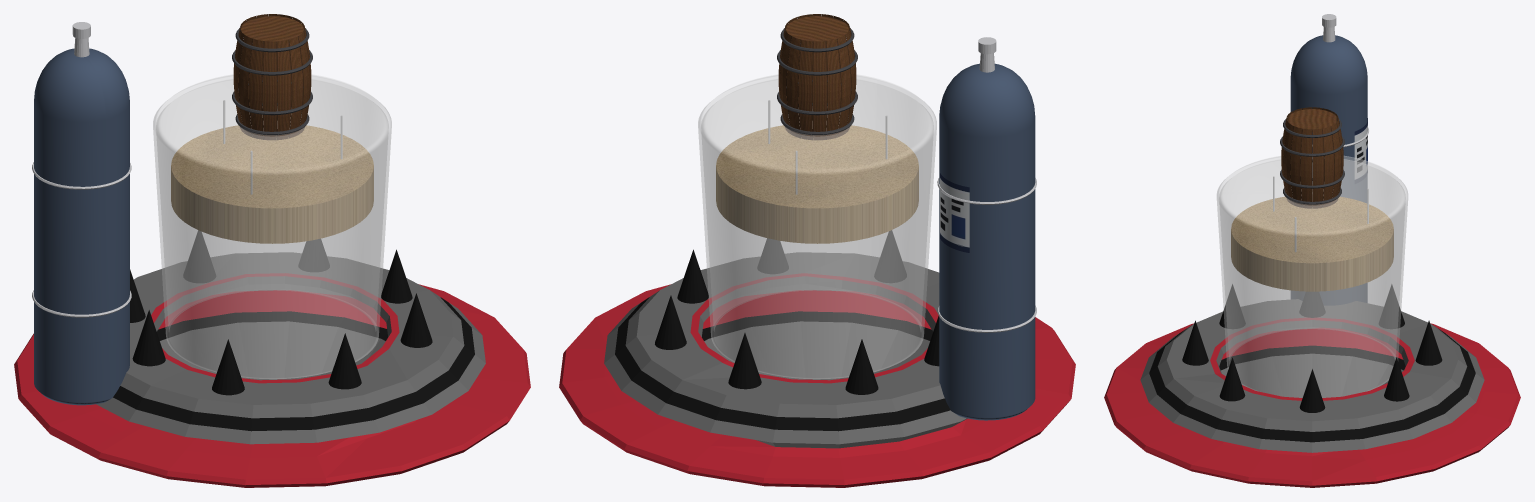
File: opus55_t05.glb
3 views of the same model, side by side, from view 1: azimuth 30°, elevation 25°; view 2: azimuth 150°, elevation 25°; view 3: azimuth 270°, elevation 25° (orthographic). The views are drawn at different scales.
Visible parts, largest first — view 1: slot_anchor_saucer, cover_glass, gas_cylinder_body, cover_disc, barrel_staves, barrel_hoops, gas_cylinder_valve; view 2: slot_anchor_saucer, cover_glass, gas_cylinder_body, cover_disc, barrel_staves, gas_cylinder_label, barrel_hoops, gas_cylinder_valve; view 3: slot_anchor_saucer, cover_glass, cover_disc, gas_cylinder_body, barrel_staves, barrel_hoops, gas_cylinder_label, gas_cylinder_valve.
Part boxes in pixels (box(x1,y1,x2,y2)): slot_anchor_saucer: box(14, 230, 530, 487); cover_glass: box(153, 74, 391, 378); gas_cylinder_body: box(34, 48, 129, 405); cover_disc: box(171, 125, 373, 243); barrel_staves: box(233, 14, 311, 140); barrel_hoops: box(232, 28, 312, 135); gas_cylinder_valve: box(32, 22, 131, 317); slot_anchor_saucer: box(559, 230, 1075, 487); cover_glass: box(698, 74, 936, 378); gas_cylinder_body: box(939, 63, 1035, 420); cover_disc: box(716, 125, 918, 243); barrel_staves: box(778, 14, 856, 140); gas_cylinder_label: box(940, 173, 969, 252); barrel_hoops: box(777, 28, 857, 135); gas_cylinder_valve: box(937, 37, 1036, 332); slot_anchor_saucer: box(1104, 284, 1520, 487); cover_glass: box(1217, 156, 1407, 397); cover_disc: box(1231, 196, 1393, 291); gas_cylinder_body: box(1290, 35, 1367, 305); barrel_staves: box(1281, 107, 1343, 208); barrel_hoops: box(1280, 119, 1344, 204); gas_cylinder_label: box(1354, 118, 1367, 183); gas_cylinder_valve: box(1312, 14, 1368, 147).
Size of the model in its own units: 2 by 1.98 by 2.
Materials: 9 (4 with a texture image).
